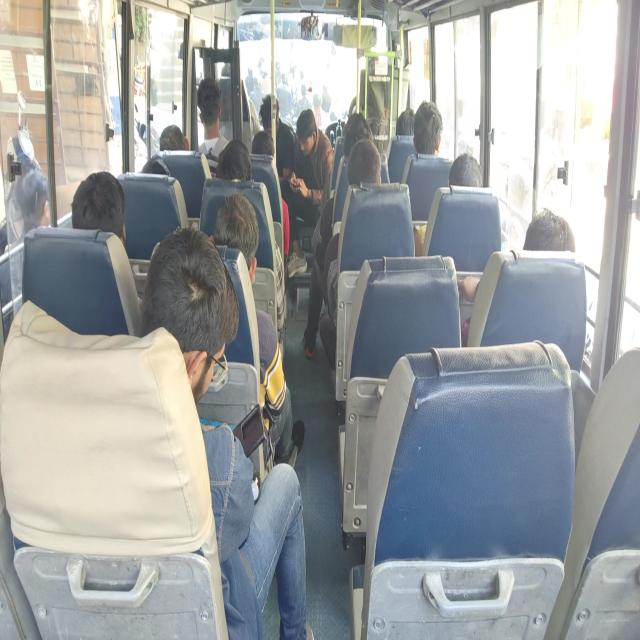person: (138, 239, 239, 387), (524, 194, 572, 282), (61, 176, 113, 253), (206, 194, 261, 256), (412, 90, 447, 153), (220, 137, 259, 192), (293, 108, 328, 162), (355, 138, 387, 196), (160, 120, 201, 165), (142, 151, 178, 195), (453, 144, 486, 190), (342, 116, 372, 160), (193, 81, 219, 127), (252, 125, 275, 160), (258, 93, 280, 125), (394, 106, 416, 130)
